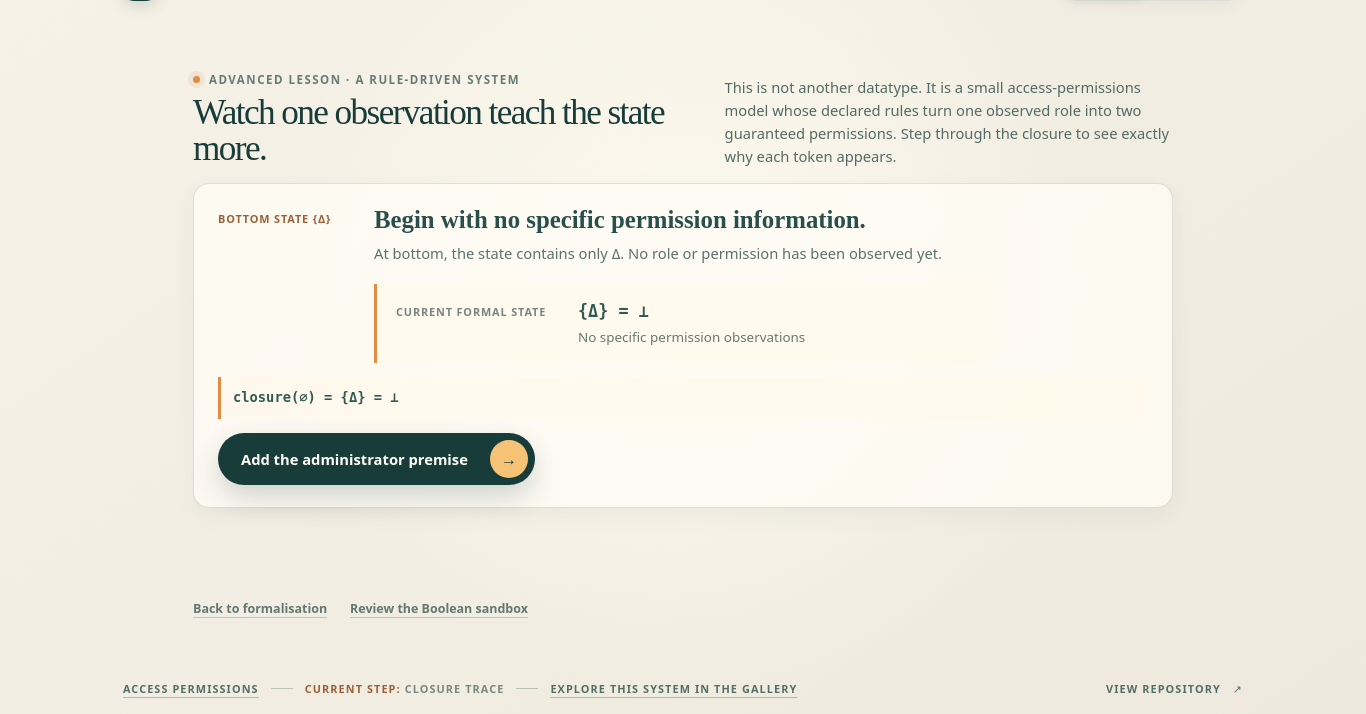
ScottLab introduction and bottom-first lesson › direct-links and returns between the entailment lesson and sandbox
Click the button "Add the administrator premise →": (376, 459) [218,433,535,485]
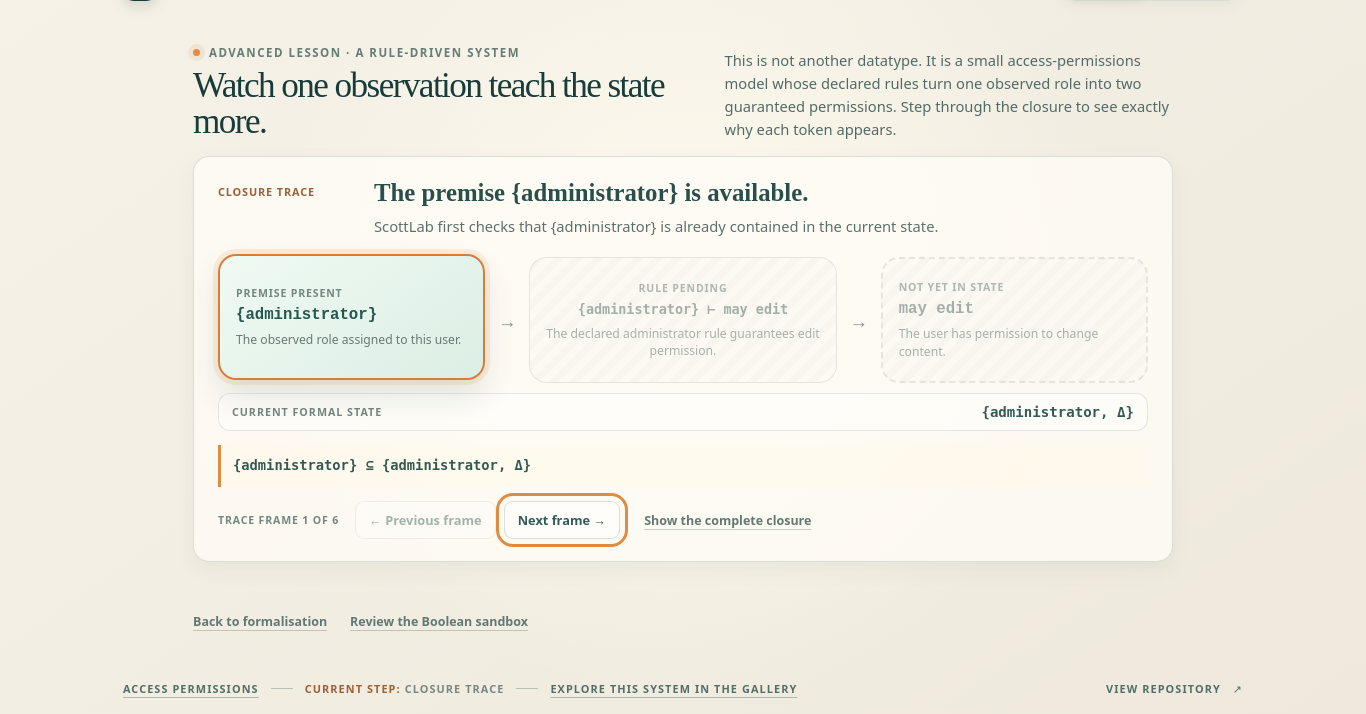
Click the button "Next frame →": (562, 520) [504,501,620,539]
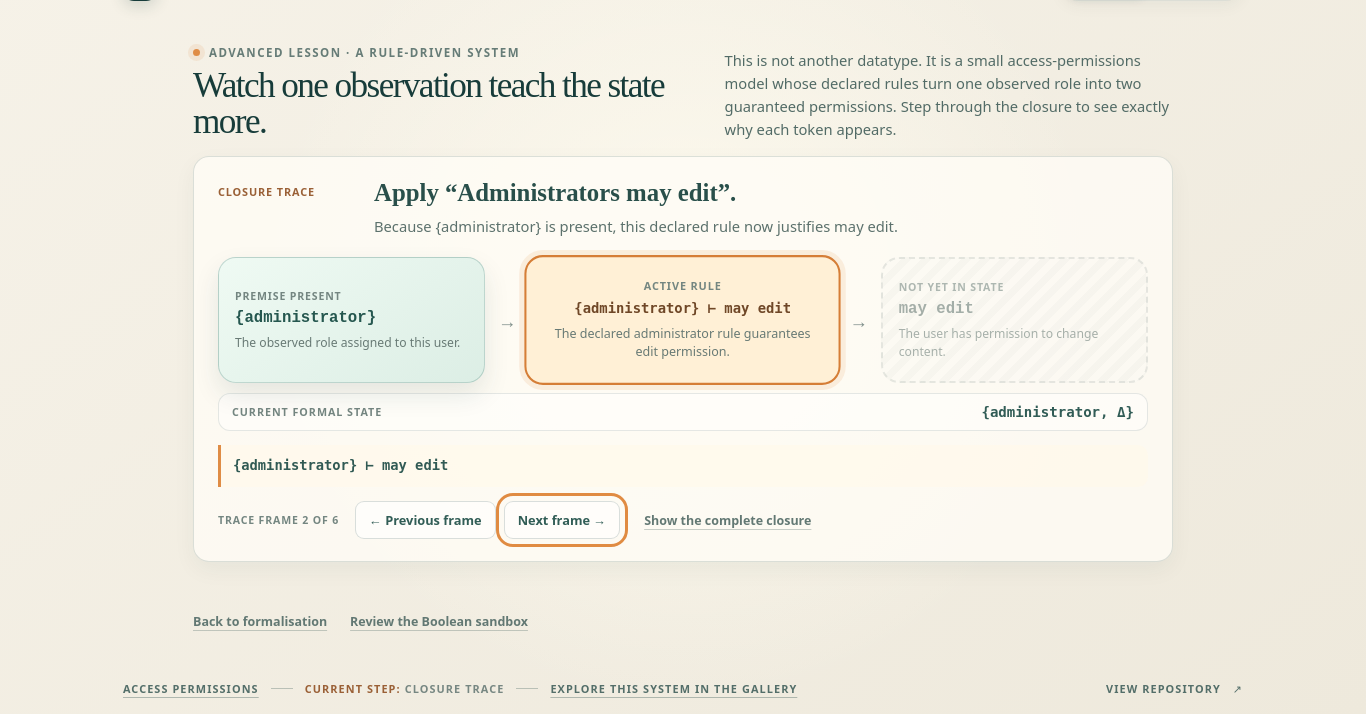
expect the text "Trace frame 2 of 6" is shown: met, box [218,513,339,527]
Click the button "Review the Boolean sandbox": (443, 622) [350,608,536,635]
(page scrolled)
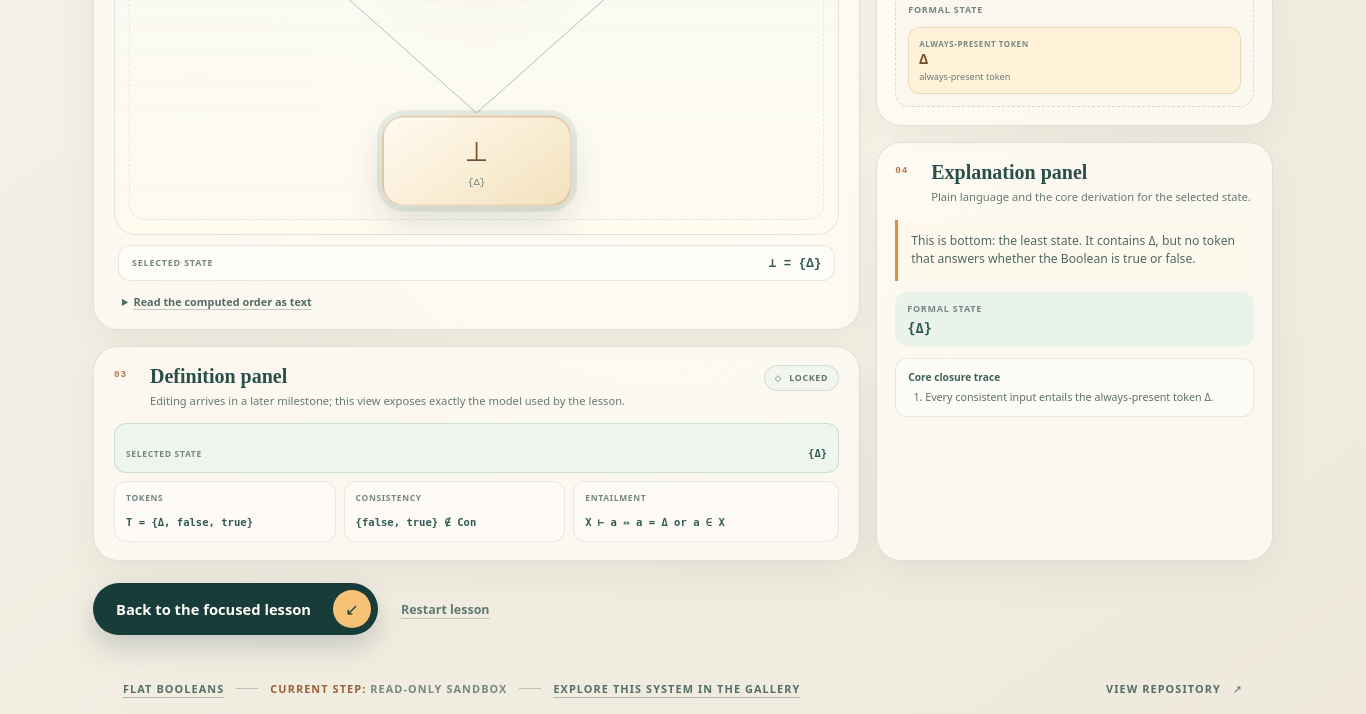
Click the button "Back to the focused lesson ↙": (236, 609) [93,583,378,635]
(page scrolled)
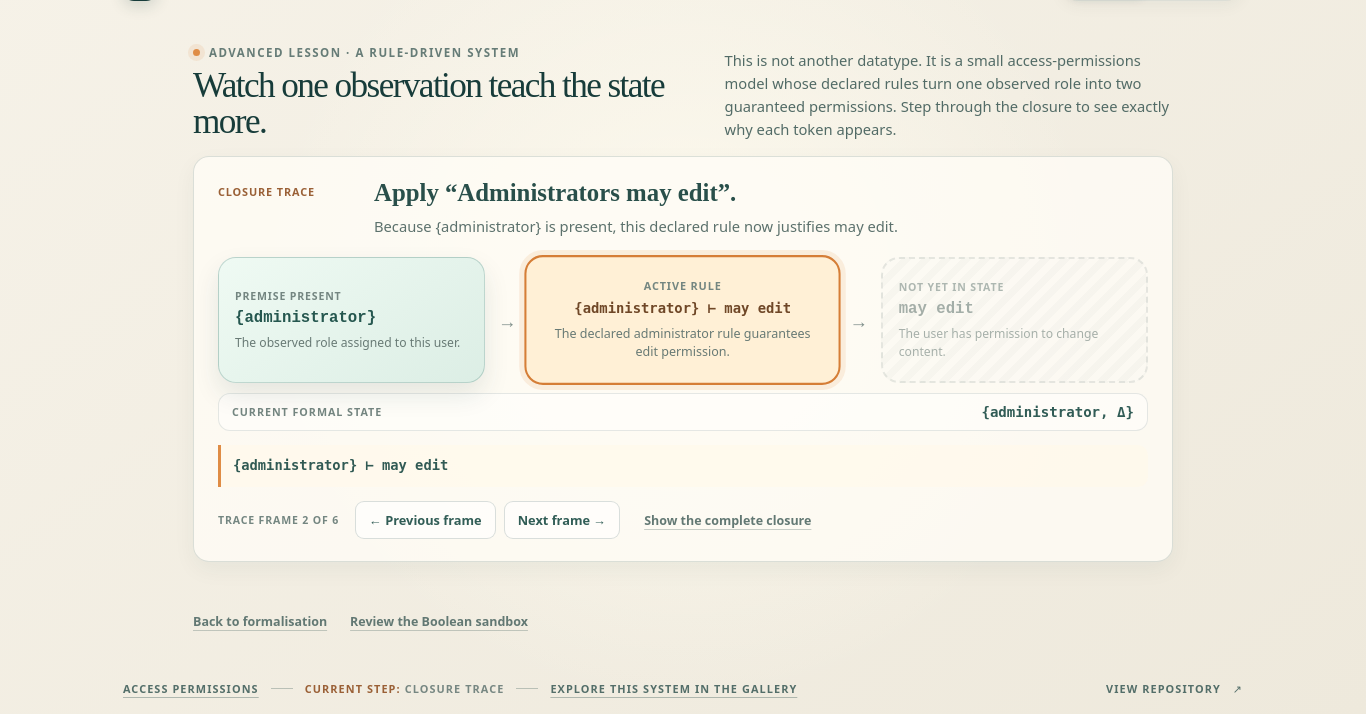
expect the text "Trace frame 2 of 6" is shown: met, box [218,513,339,527]
expect the heading "Apply “Administrators may edit”." is shown: met, box [374,179,736,206]
